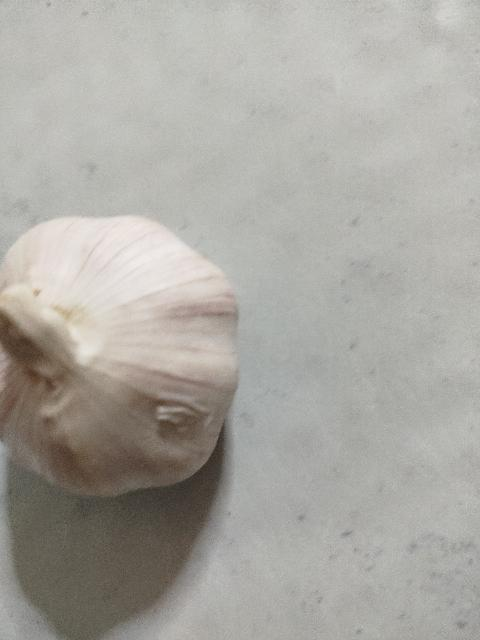garlic: (0, 214, 240, 498)
